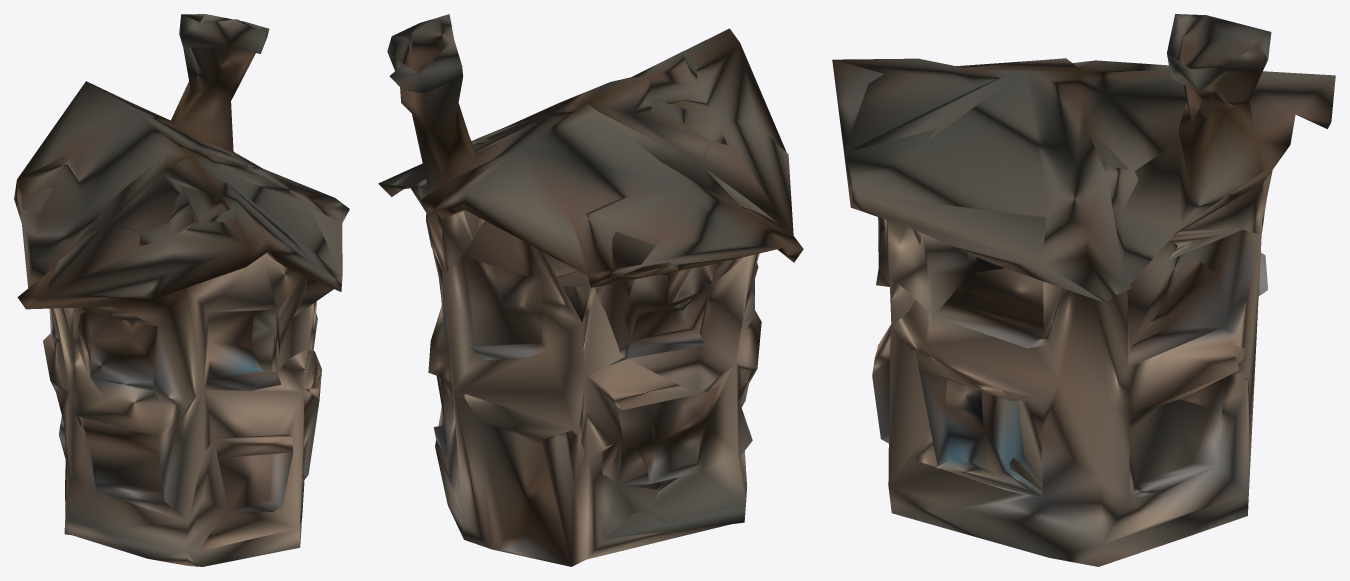
The model's file is gen3d-crooked-house-lod1.glb.
3 renders of one model, left to right at view 1: azimuth 30°, elevation 25°; view 2: azimuth 150°, elevation 25°; view 3: azimuth 270°, elevation 25°, orthographic. The views are drawn at different scales.
Visible parts, largest first — view 1: part_0; view 2: part_0; view 3: part_0.
Part boxes in pixels (x1,y1,x2,y2): part_0: [14, 14, 349, 566]; part_0: [378, 14, 803, 566]; part_0: [832, 14, 1335, 566].
Size of the model in its own units: 0.8476 by 0.9979 by 0.8558.
